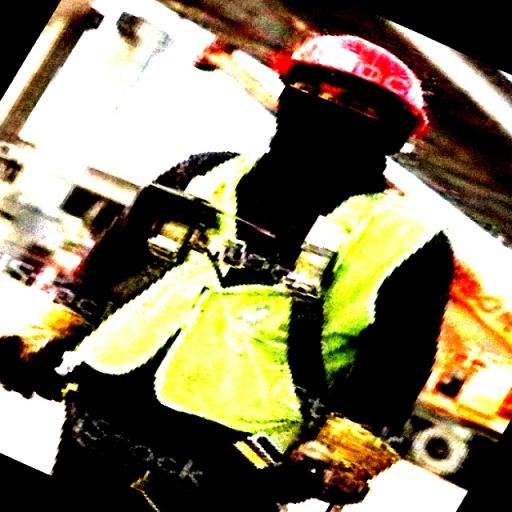Person: (1, 17, 501, 512), (36, 25, 470, 504)
gloves: (2, 303, 88, 422), (292, 418, 408, 502)
helmet: (257, 26, 492, 140)
vest: (54, 139, 463, 462)
